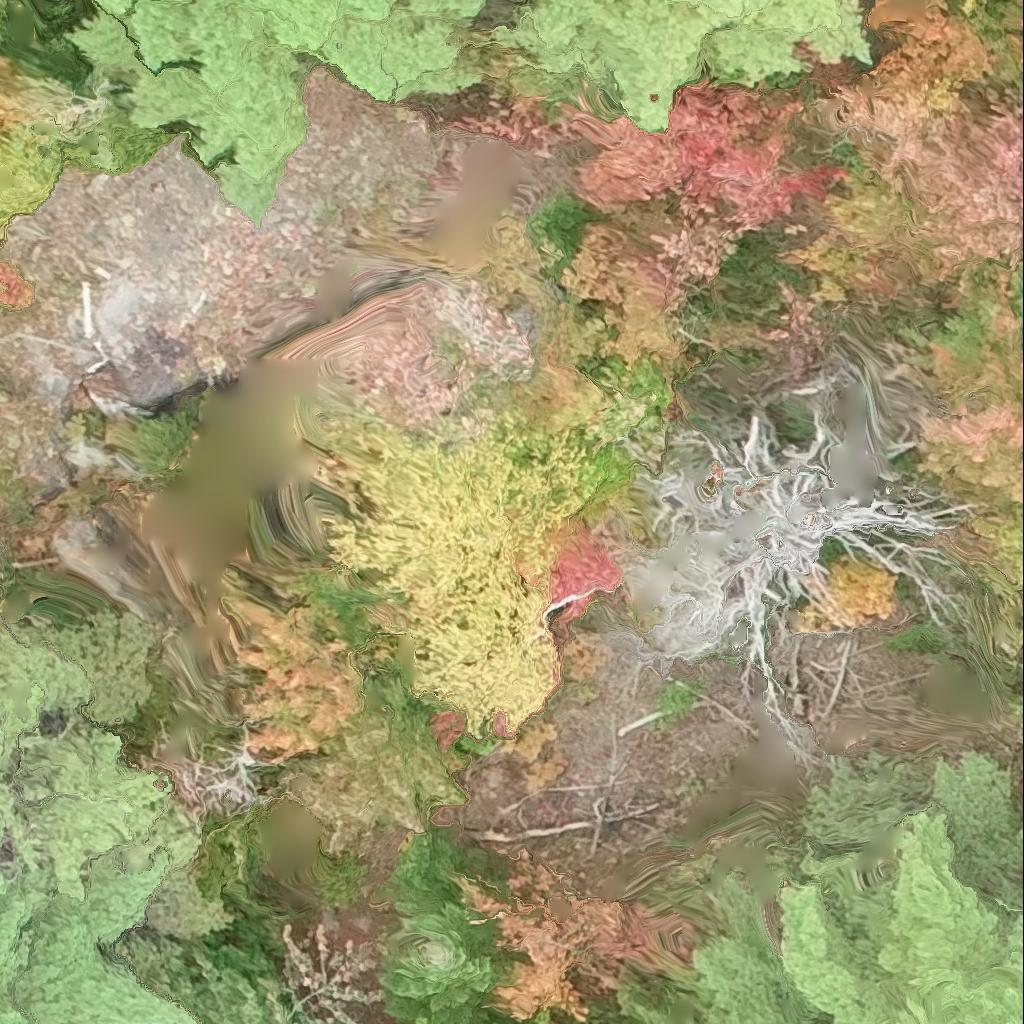crown: (697, 753, 1023, 1023)
